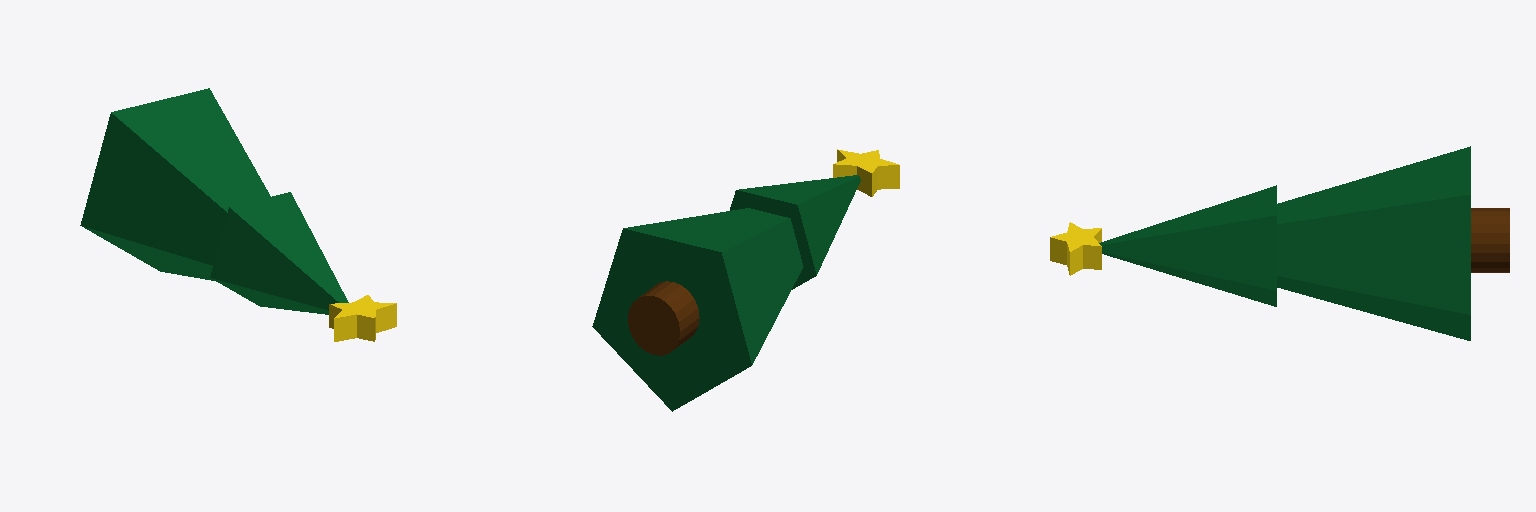
The model's file is tinker.obj.
3 renders of one model, left to right at view 1: azimuth 30°, elevation 25°; view 2: azimuth 150°, elevation 25°; view 3: azimuth 270°, elevation 25°, orthographic.
Parts seen in each view (by area): view 1: obj_0; view 2: obj_0; view 3: obj_0.
Boxes of the visible parts, box(x1,y1,x2,y2) form: obj_0: box(80, 88, 396, 341); obj_0: box(592, 149, 899, 411); obj_0: box(1050, 146, 1509, 340).
Size of the model in its own units: 19 by 19.47 by 47.43.